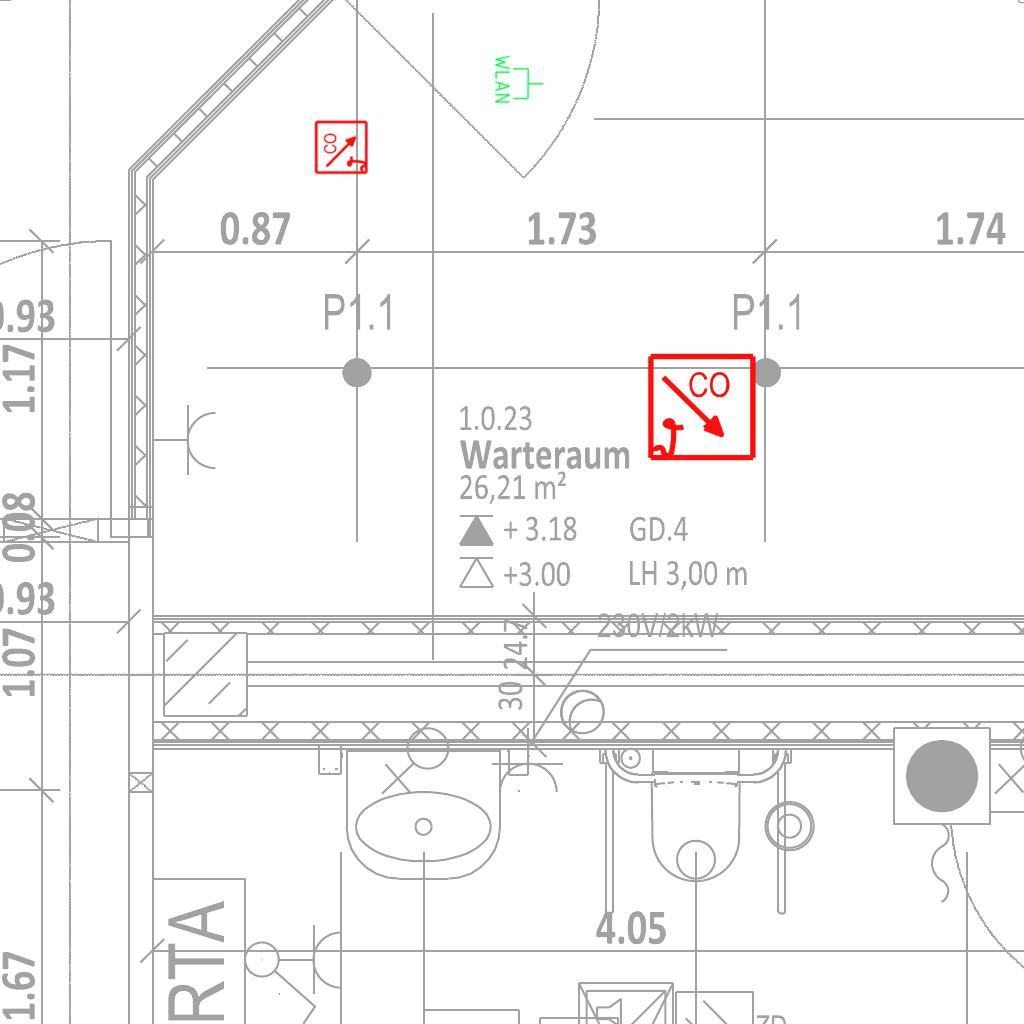ROA_Rauchmelder_optisch_mit_Signalgeber_(Sockelsirene): (646, 352, 759, 465), (314, 119, 370, 175)
WLAN: (493, 53, 545, 105)
